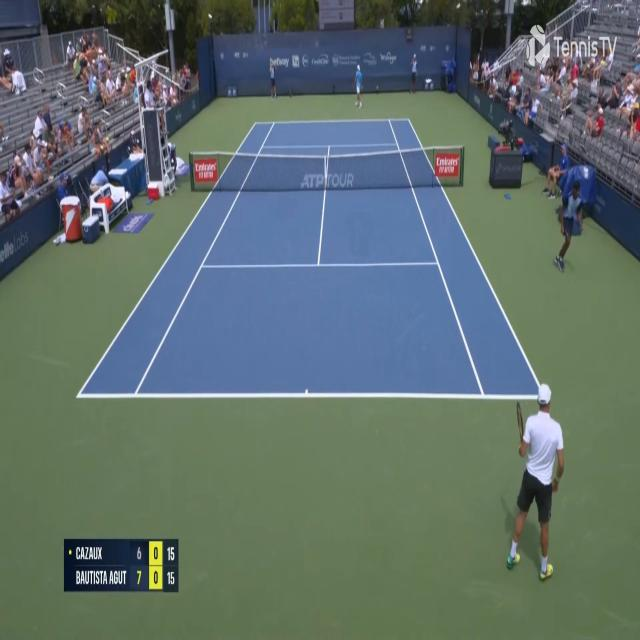tennis-player: (497, 384, 566, 585), (353, 61, 364, 108)
